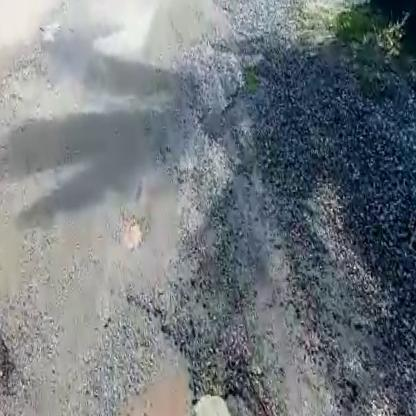pothole: (85, 333, 225, 416)
